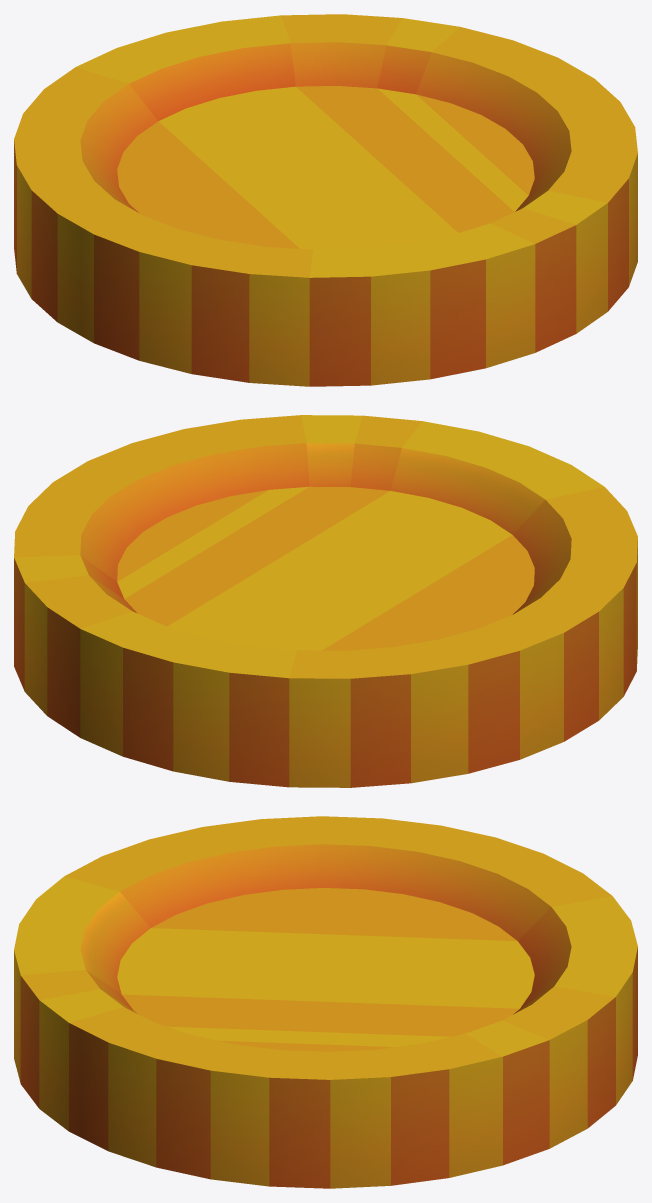
Rendered from coin_a.fbx.
The picture shows the model from 3 angles, top to bottom: view 1: azimuth 30°, elevation 25°; view 2: azimuth 150°, elevation 25°; view 3: azimuth 270°, elevation 25°; orthographic projection.
Visible parts, largest first — view 1: coin; view 2: coin; view 3: coin.
Boxes of the visible parts, x1,y1,x2,y2 form: coin: (14,14,637,386); coin: (14,415,637,787); coin: (14,816,637,1188).
Size of the model in its own units: 8.11 by 1.56 by 8.11.
